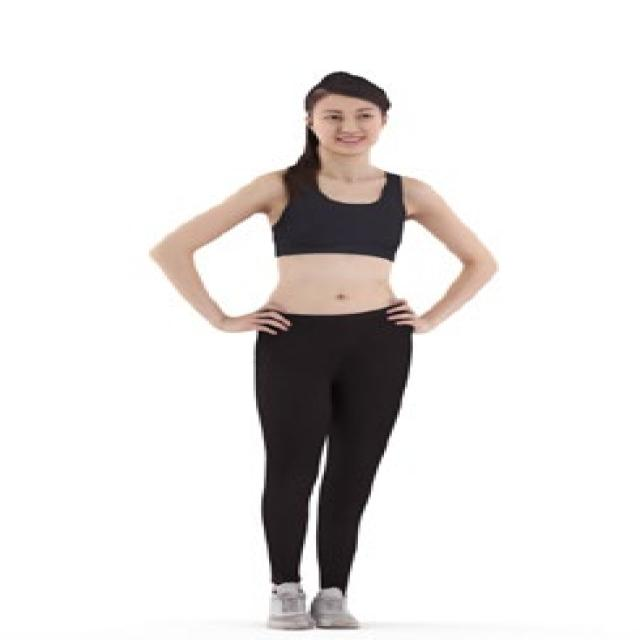standing: (146, 72, 502, 634)
